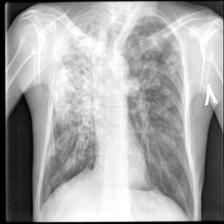tuberculosis: (39, 4, 198, 222)
